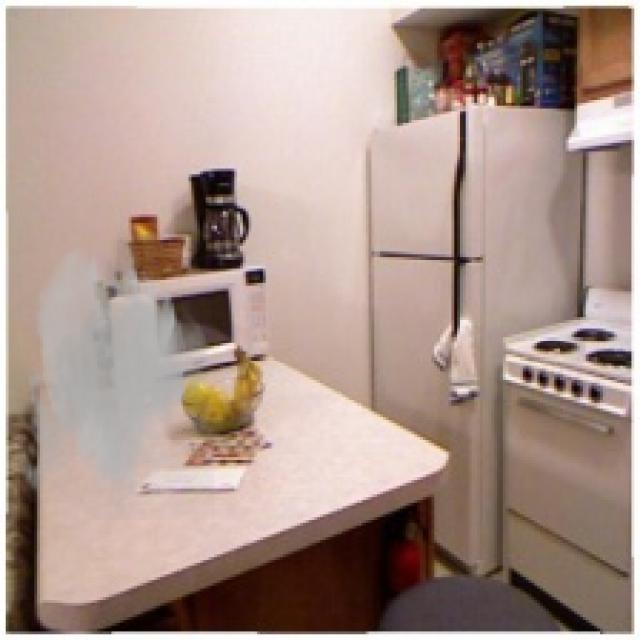Smoke: (14, 243, 214, 520)
